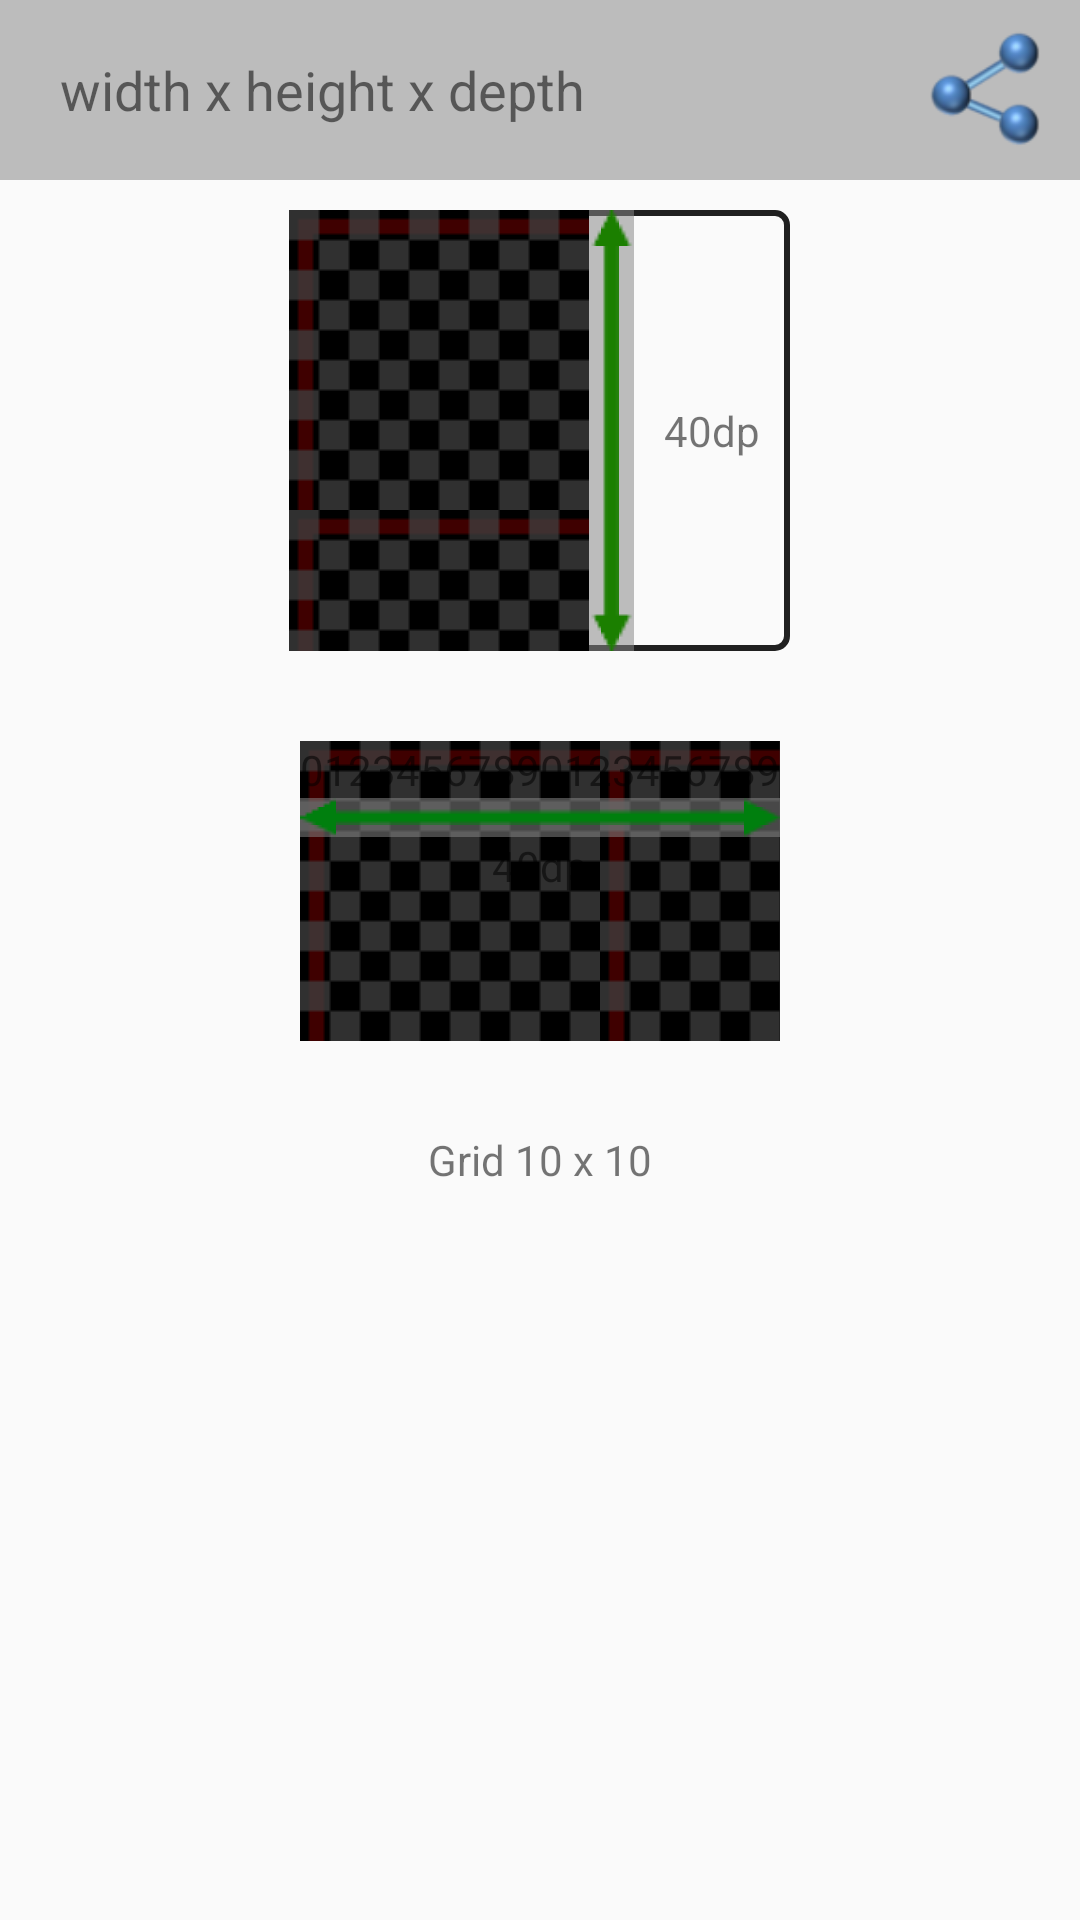

Named icons in this screenshot (1080×1920) and their bounding boxes, (x1, y1, x2, y2):
share: (931, 33, 1039, 145)
